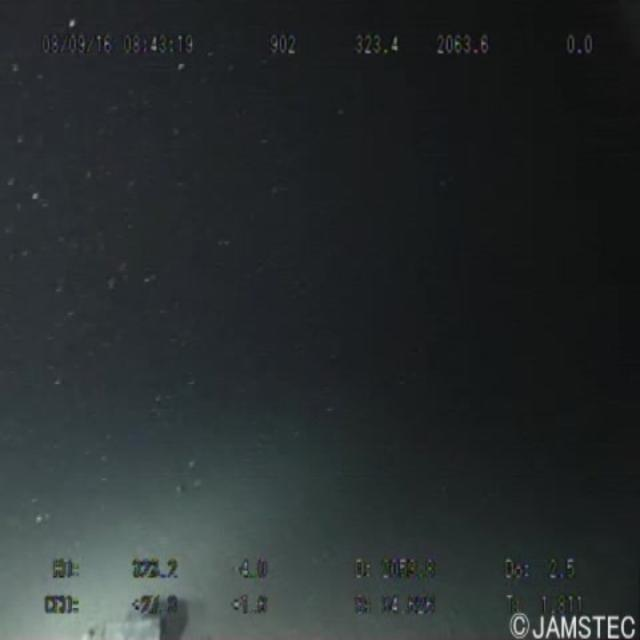Glass: (82, 578, 176, 640)
